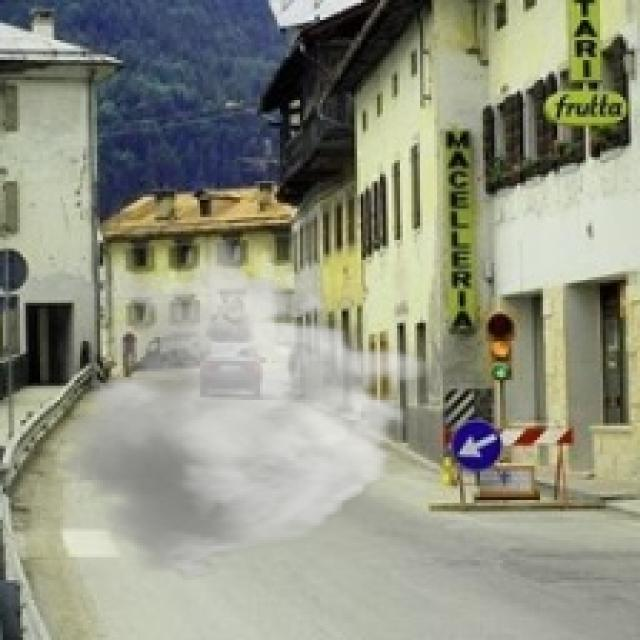smoke: (46, 237, 437, 583)
